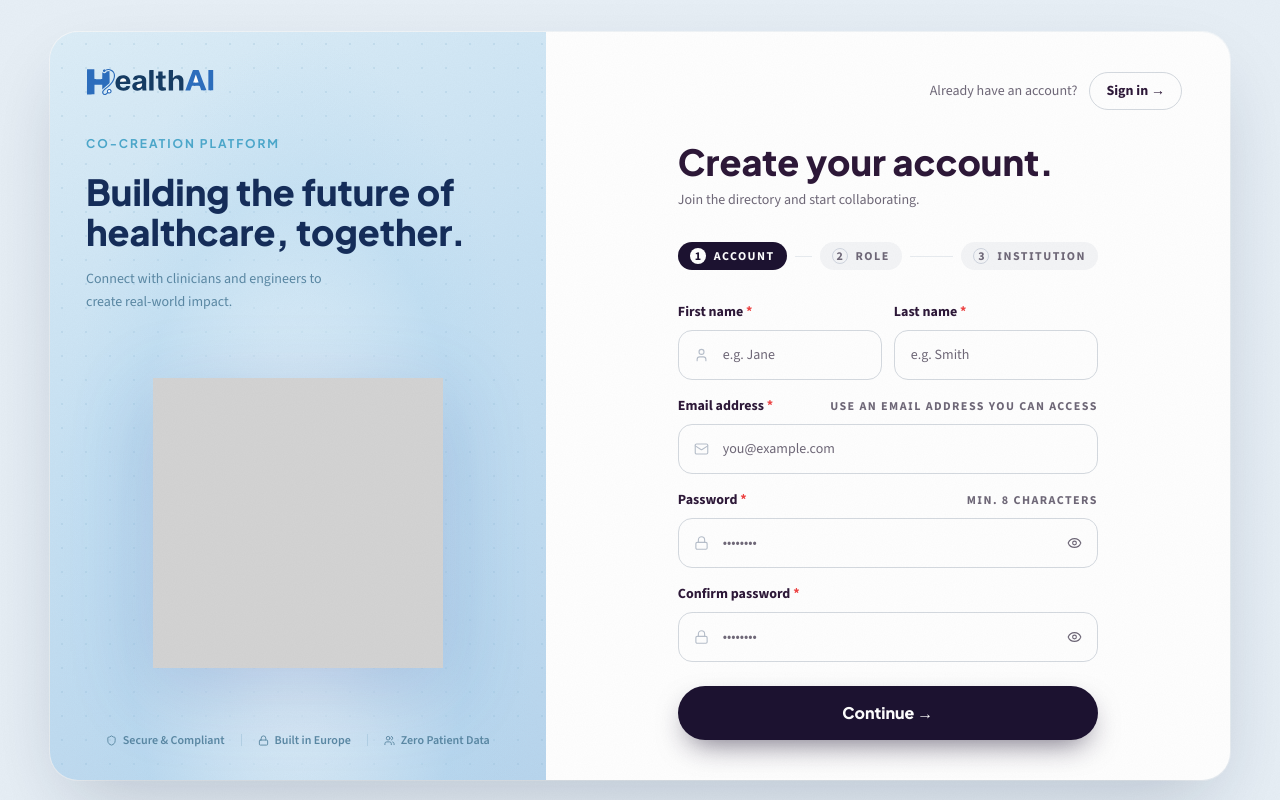
Test: RegisterPage — account step › suggests the likely address when the email domain looks mistyped
Type "alice@gmial.com" into the field labelled "Email address *" at (888, 449), box [678,424,1098,474]
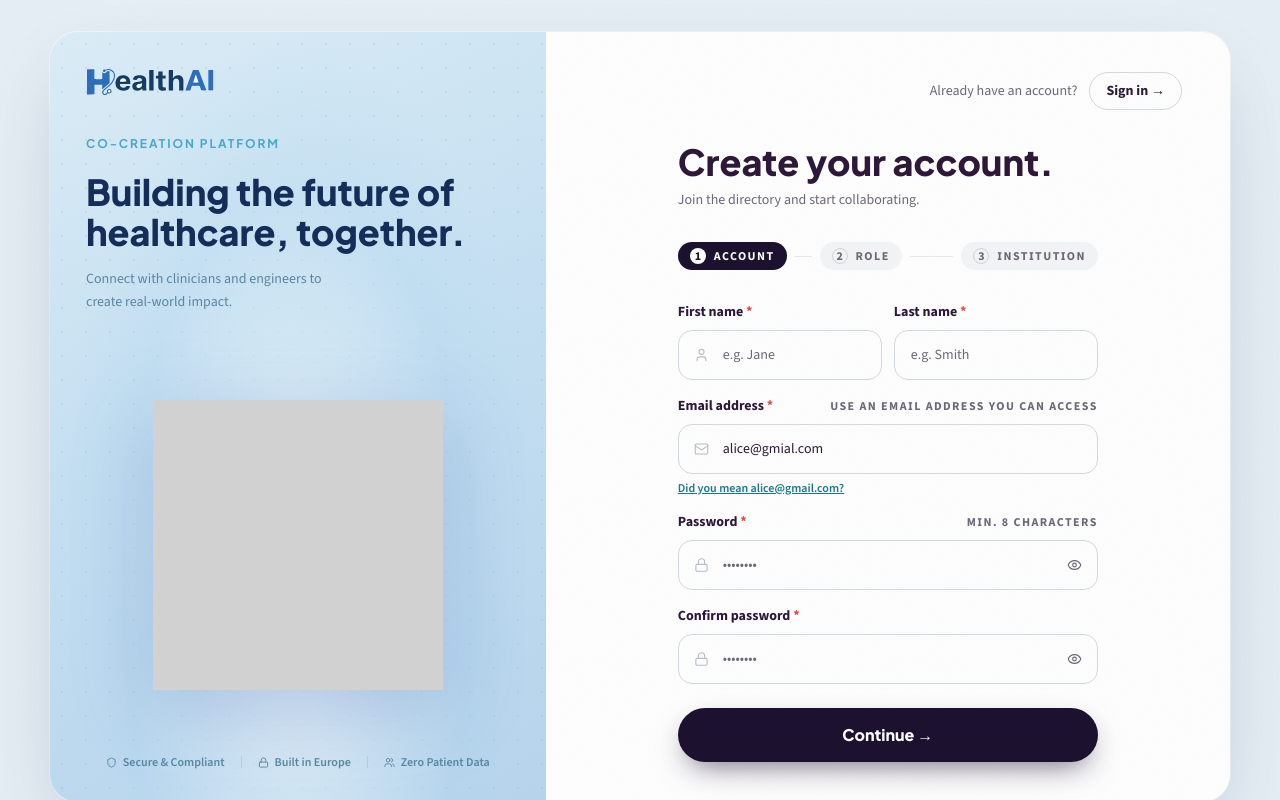
Click the button "Did you mean alice@gmail.com?" at (761, 488), box [678,480,844,496]
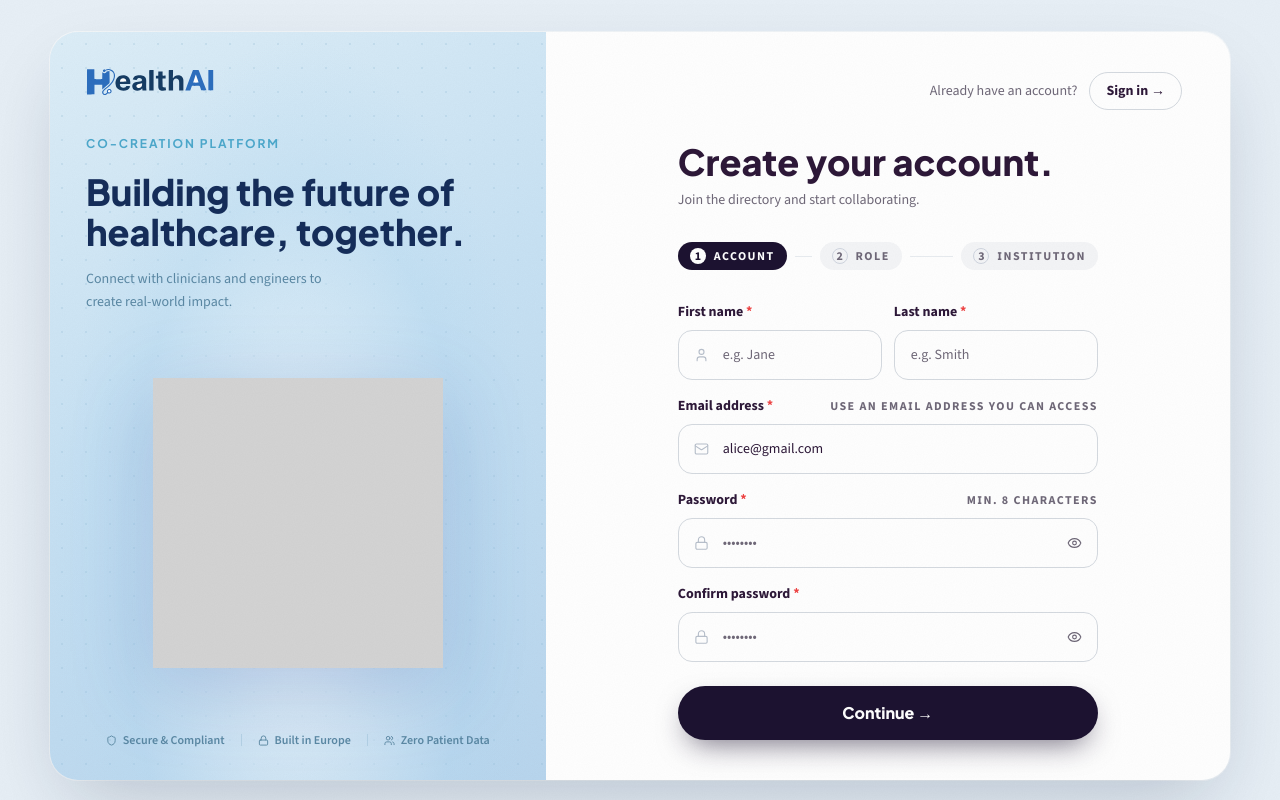
Expected: the field labelled "Email address *" holds "alice@gmail.com", [678,424,1098,474]
Expected: the button "Did you mean" is gone
